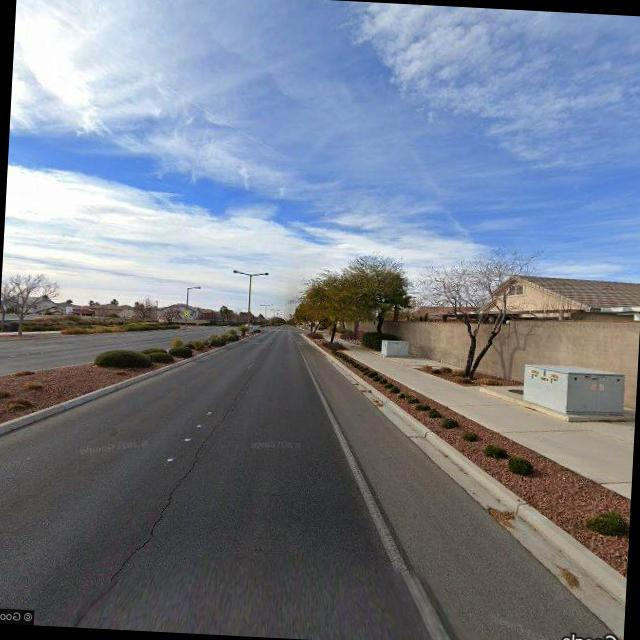crack: (106, 400, 233, 590)
